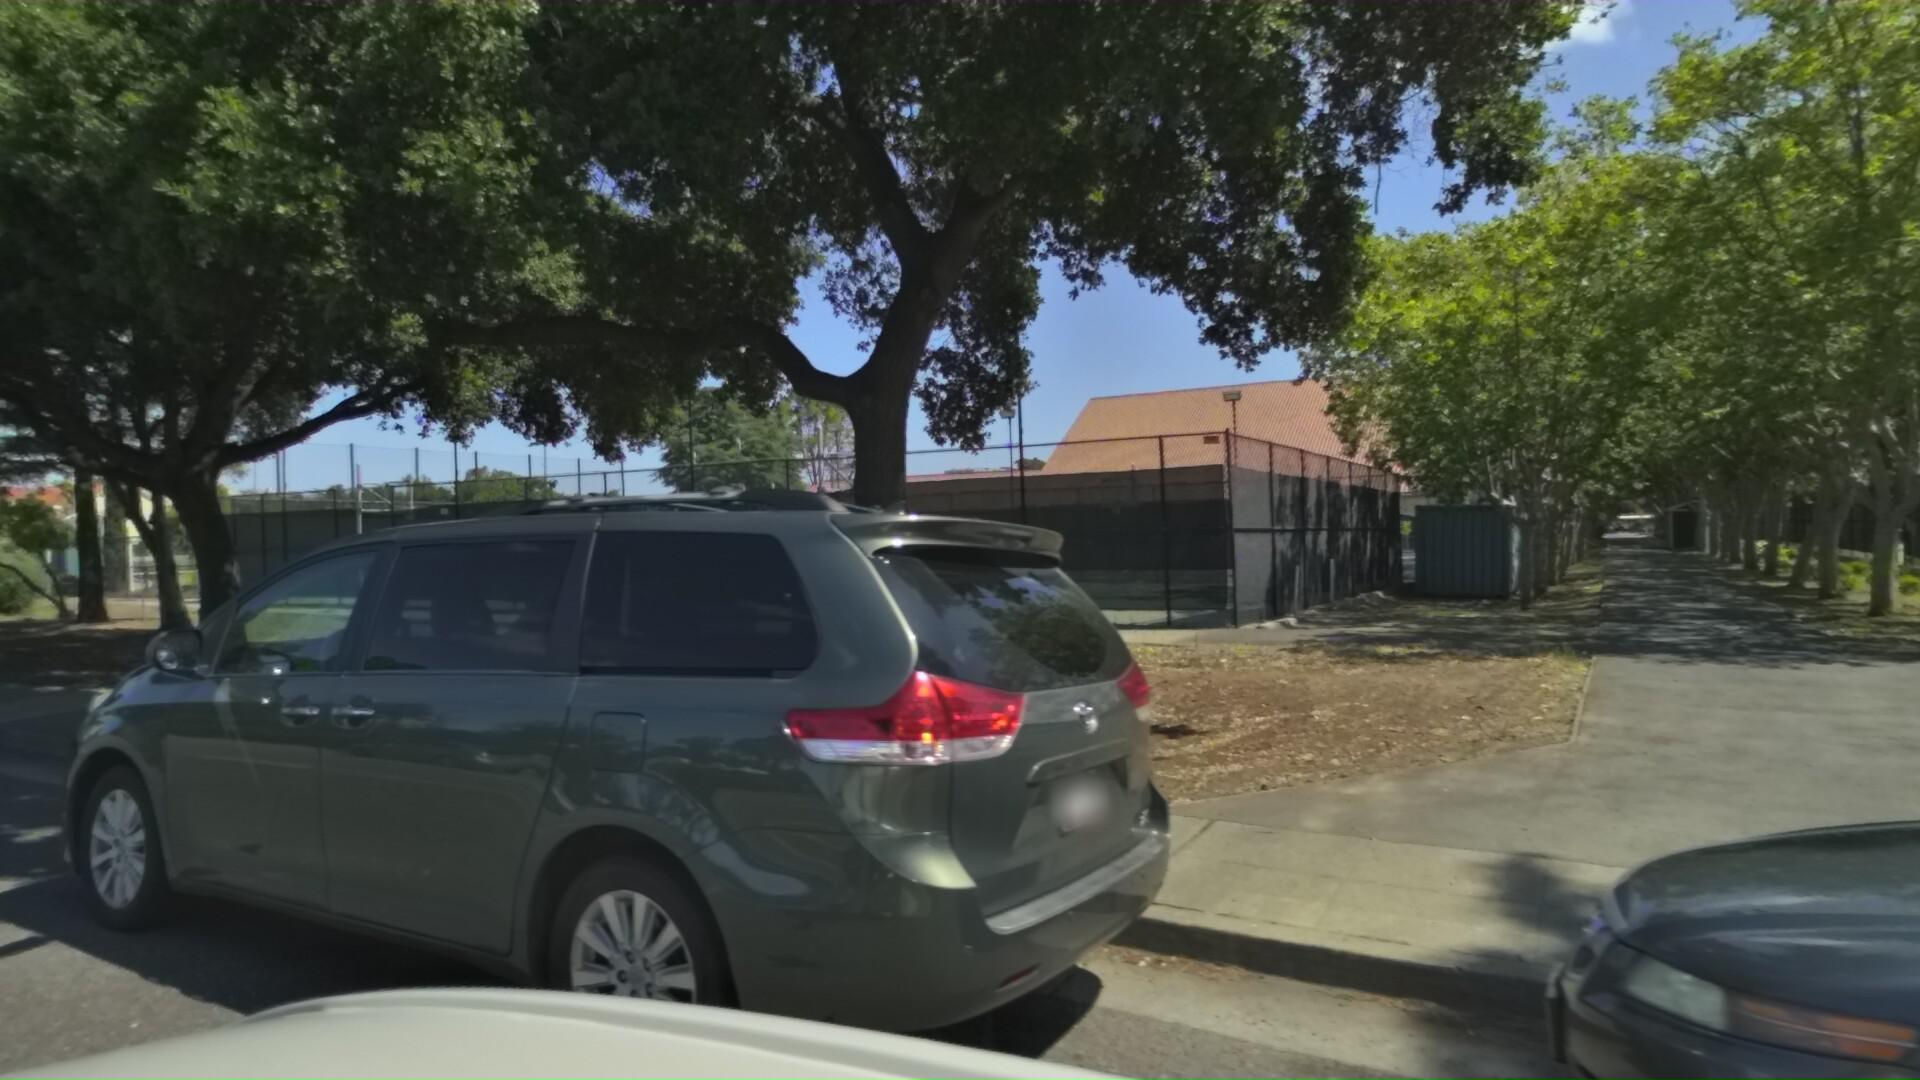car: (38, 423, 1360, 1080)
